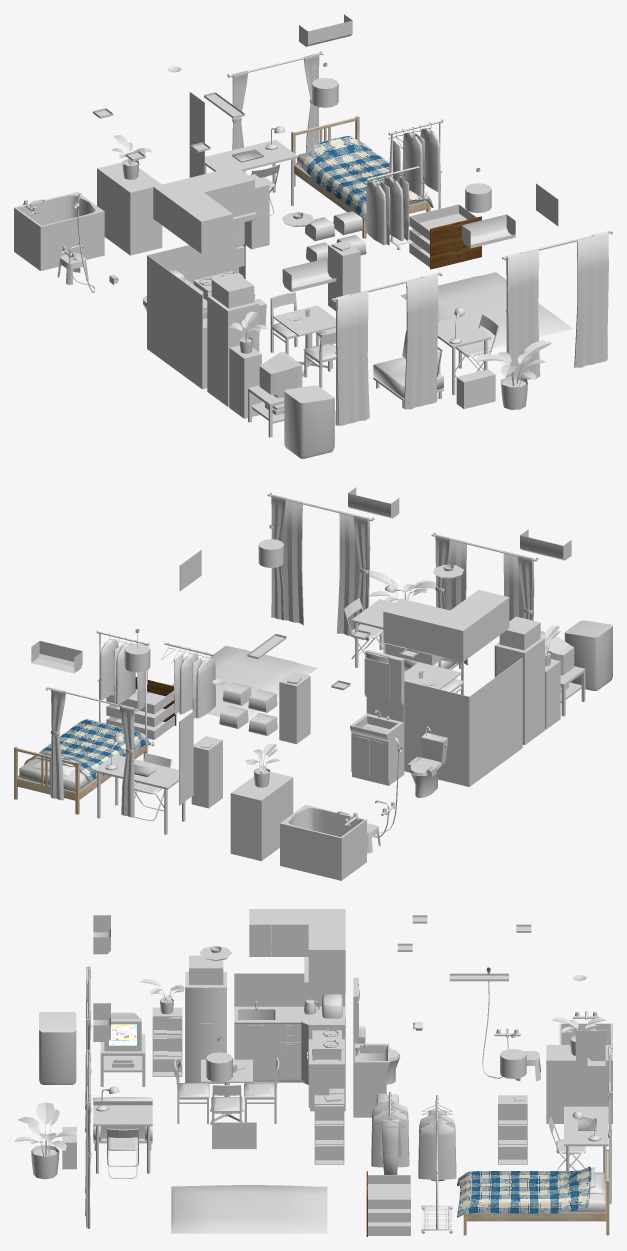
3 renders of one model, top to bottom at view 1: azimuth 30°, elevation 25°; view 2: azimuth 150°, elevation 25°; view 3: azimuth 270°, elevation 25°, orthographic. The views are drawn at different scales.
Visible parts, largest first — view 1: counter.001, tub, cabinet, shoe closet, blanket, curtain thin, curtain thin.001, curtain thin.004, futon, curtain thin.005, laundry, fridge (+35 smaller); view 2: counter.001, cabinet, tub, shoe closet, futon, sink, blanket, fridge, laundry, curtain thin.001, curtain thin.005, shelves.003 (+46 smaller); view 3: futon, blanket, cabinet, counter.002, laundry, counter.001, sink, shirt.004, plant.002, fridge.003, bed frame.001, desk.002 (+49 smaller).
Boxes of the visible parts, bbox=[...] form: counter.001: bbox=[147, 233, 236, 388]; tub: bbox=[14, 192, 104, 270]; cabinet: bbox=[153, 166, 253, 253]; shoe closet: bbox=[97, 162, 162, 255]; blanket: bbox=[301, 135, 433, 221]; curtain thin: bbox=[403, 274, 438, 409]; curtain thin.001: bbox=[574, 233, 608, 367]; curtain thin.004: bbox=[336, 291, 369, 425]; futon: bbox=[400, 272, 573, 348]; curtain thin.005: bbox=[507, 250, 540, 380]; laundry: bbox=[284, 385, 334, 458]; fridge: bbox=[207, 295, 256, 406]; counter.001: bbox=[404, 658, 522, 786]; cabinet: bbox=[383, 590, 509, 661]; tub: bbox=[280, 804, 366, 880]; shoe closet: bbox=[230, 771, 293, 861]; futon: bbox=[171, 645, 317, 718]; sink: bbox=[350, 650, 404, 785]; blanket: bbox=[24, 719, 150, 781]; fridge: bbox=[497, 637, 544, 744]; laundry: bbox=[564, 620, 612, 690]; curtain thin.001: bbox=[273, 494, 303, 625]; curtain thin.005: bbox=[337, 511, 370, 635]; shelves.003: bbox=[279, 671, 310, 744]; futon: bbox=[171, 1185, 327, 1233]; blanket: bbox=[457, 1166, 591, 1217]; cabinet: bbox=[249, 909, 345, 982]; counter.002: bbox=[234, 1001, 345, 1111]; laundry: bbox=[39, 1012, 76, 1084]; counter.001: bbox=[234, 973, 345, 1064]; sink: bbox=[353, 977, 389, 1117]; shirt.004: bbox=[418, 1123, 456, 1179]; plant.002: bbox=[14, 1102, 77, 1179]; fridge.003: bbox=[185, 1023, 226, 1083]; bed frame.001: bbox=[463, 1149, 609, 1235]; desk.002: bbox=[564, 1106, 608, 1180].
Bounding box in the file's own units: 540 × 240 × 807.
